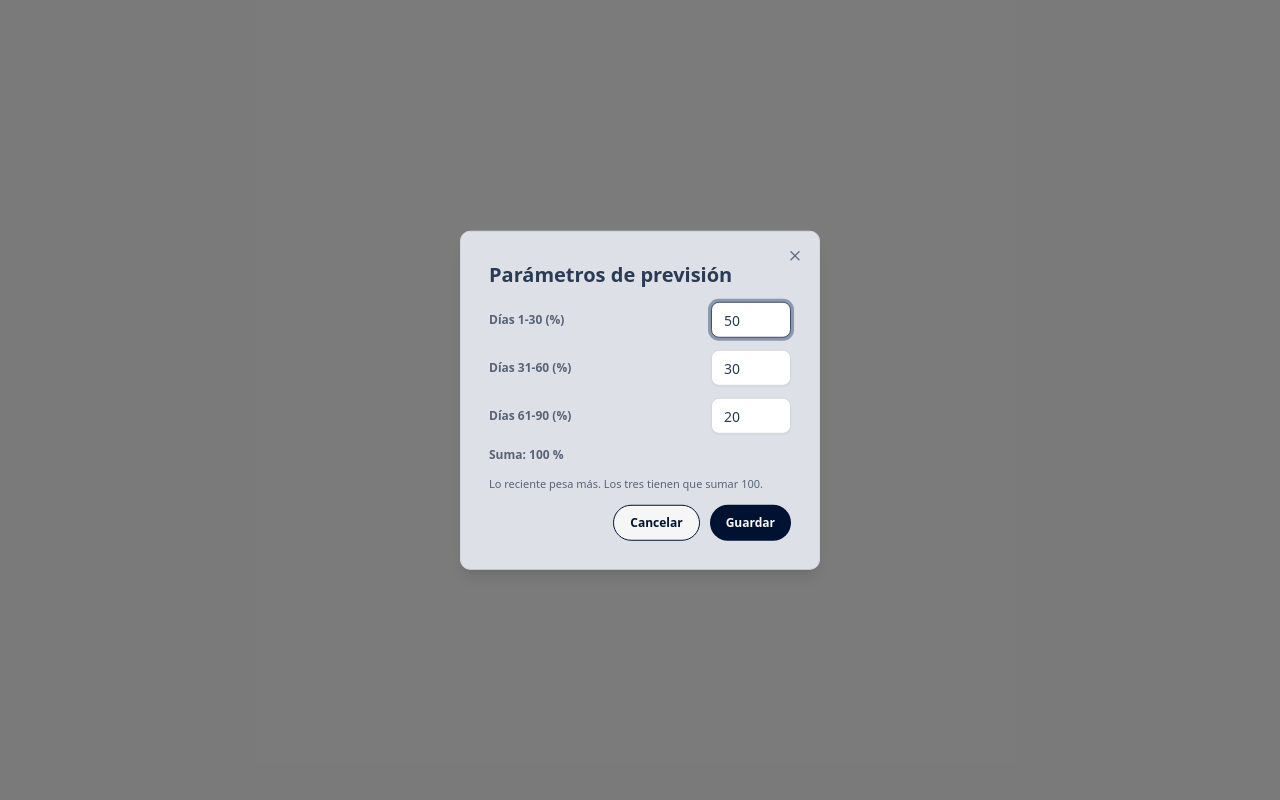
ParametrosPrevisionDialog › un 422 del servidor se pinta dentro y el diálogo sigue abierto
Expected: the field showing "50" is shown, 711,302 -> 791,338
Click the button "Guardar": (750,522) 710,504 -> 791,540
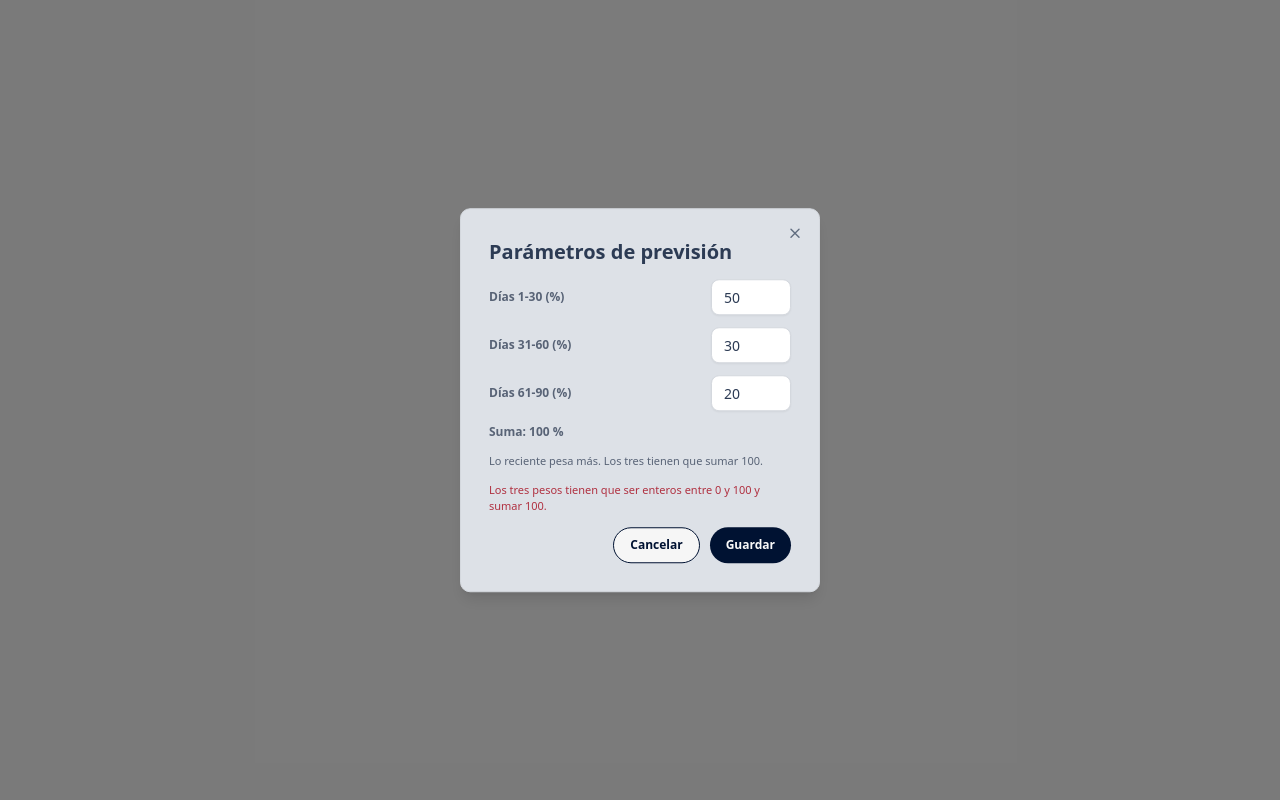
Result: the message reads "Los tres pesos tienen que ser enteros entre 0 y 100 y sumar 100." at 489,482 -> 760,513
